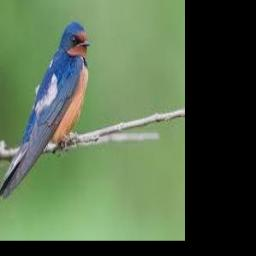Swallow: (0, 23, 91, 198)
